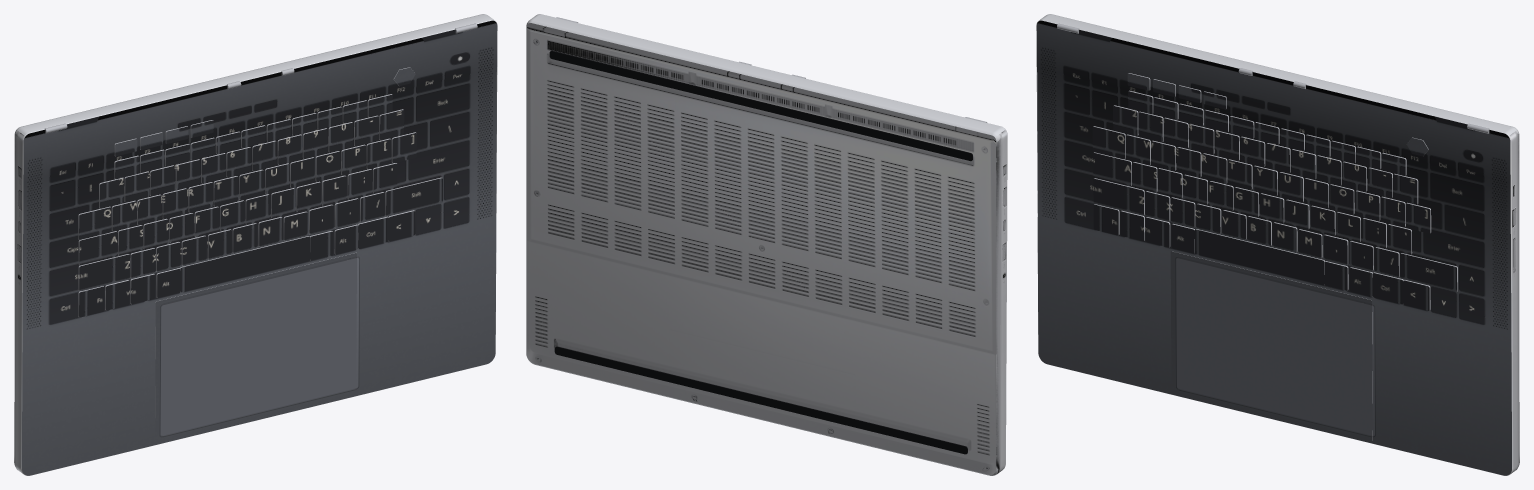
The model's file is body.obj.
3 renders of one model, left to right at view 1: azimuth 30°, elevation 25°; view 2: azimuth 150°, elevation 25°; view 3: azimuth 330°, elevation 25°, orthographic.
Visible parts, largest first — view 1: deck, keys.001, keys, base.002, base.003; view 2: base.004, base.005, base.002, base.003, base; view 3: deck, keys.001, keys, base.002, base.001.
Part boxes in pixels (x1,y1,x2,y2): deck: (22, 20, 497, 475); keys.001: (79, 67, 442, 317); keys: (78, 67, 442, 316); base.002: (16, 14, 495, 475); base.003: (14, 130, 25, 474); base.004: (527, 23, 996, 474); base.005: (549, 50, 972, 454); base.002: (528, 14, 1005, 475); base.003: (995, 129, 1007, 474); base: (526, 26, 998, 475); deck: (1036, 20, 1511, 475); keys.001: (1092, 73, 1457, 310); keys: (1093, 73, 1457, 310); base.002: (1038, 14, 1517, 475); base.001: (1508, 130, 1519, 474).
Size of the model in its own units: 354 by 246 by 15.16.
